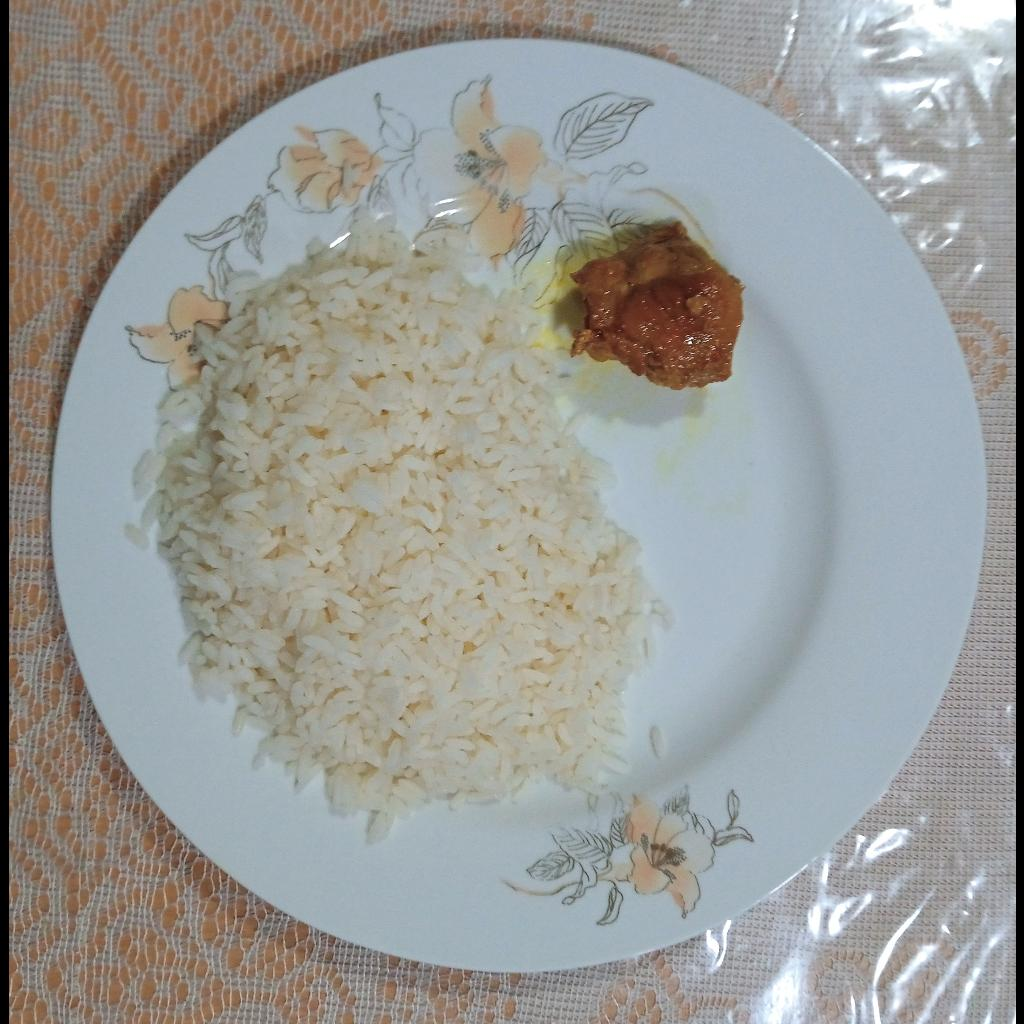chicken: (568, 221, 746, 390)
rice: (120, 208, 676, 850)
